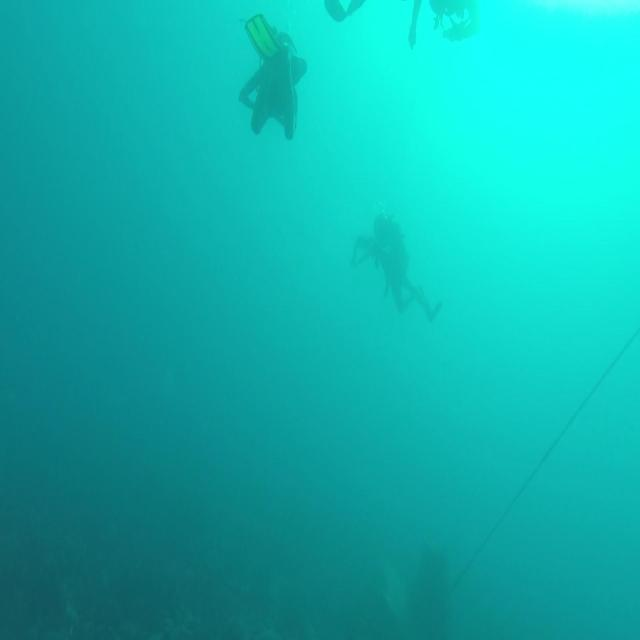human: (350, 207, 443, 323), (238, 15, 307, 141)
